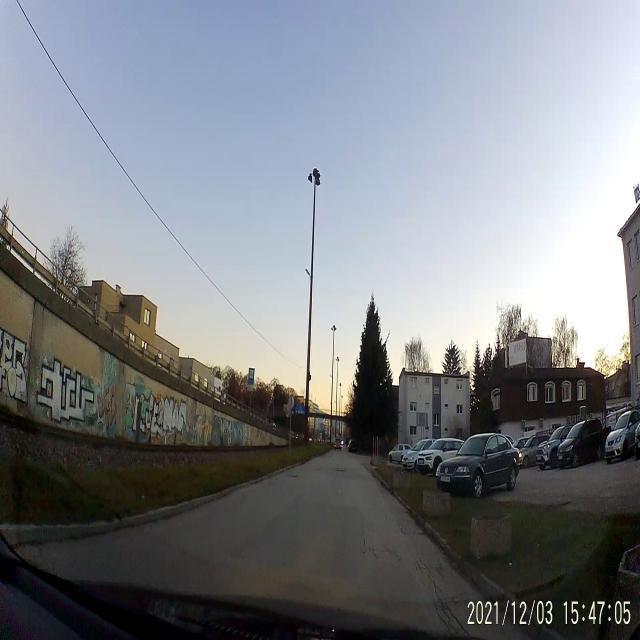Pothole: (333, 464, 346, 477), (288, 472, 300, 480)
